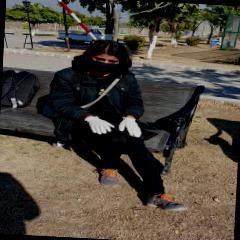gloved: (86, 116, 114, 136), (118, 117, 142, 138)
